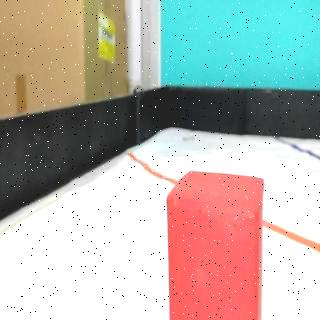redbox: (165, 170, 265, 320)
